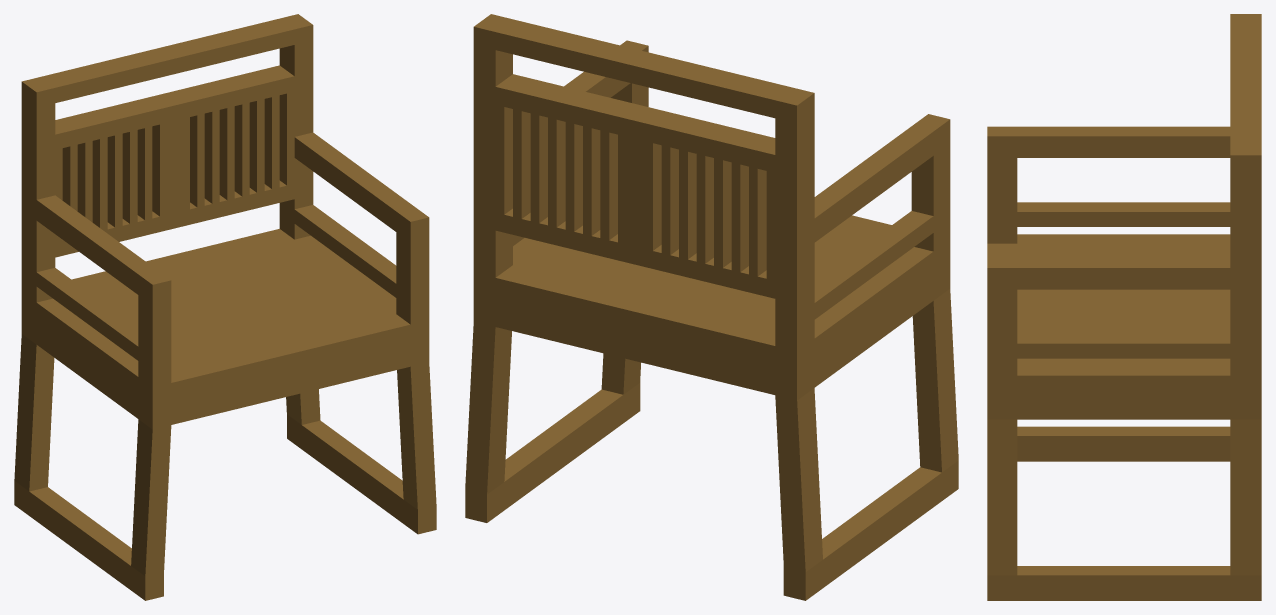
The model's file is diningchair1.fbx.
3 renders of one model, left to right at view 1: azimuth 30°, elevation 25°; view 2: azimuth 150°, elevation 25°; view 3: azimuth 270°, elevation 25°, orthographic. The views are drawn at different scales.
Visible parts, largest first — view 1: Cube.066; view 2: Cube.066; view 3: Cube.066.
Boxes of the visible parts, x1,y1,x2,y2 form: Cube.066: [14, 14, 436, 600]; Cube.066: [465, 14, 958, 600]; Cube.066: [987, 14, 1261, 600].
Bounding box in the file's own units: 99.6 × 138 × 77.58.
